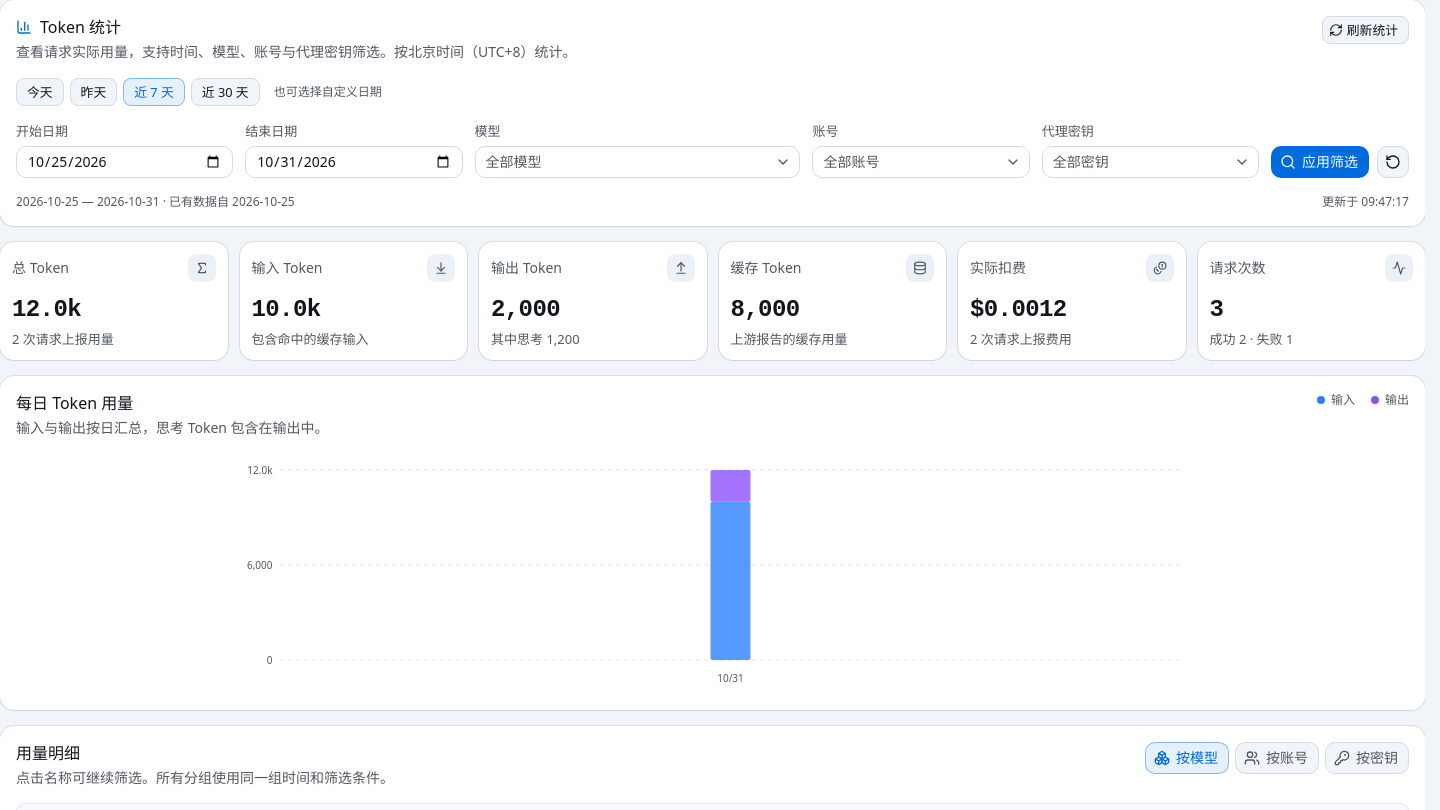
Test case: failed refresh keeps existing numbers and displays the failure
The image size is (1440, 810).
Click the button "刷新统计" at (1365, 30), box x1=1322 y1=16 x2=1409 y2=44
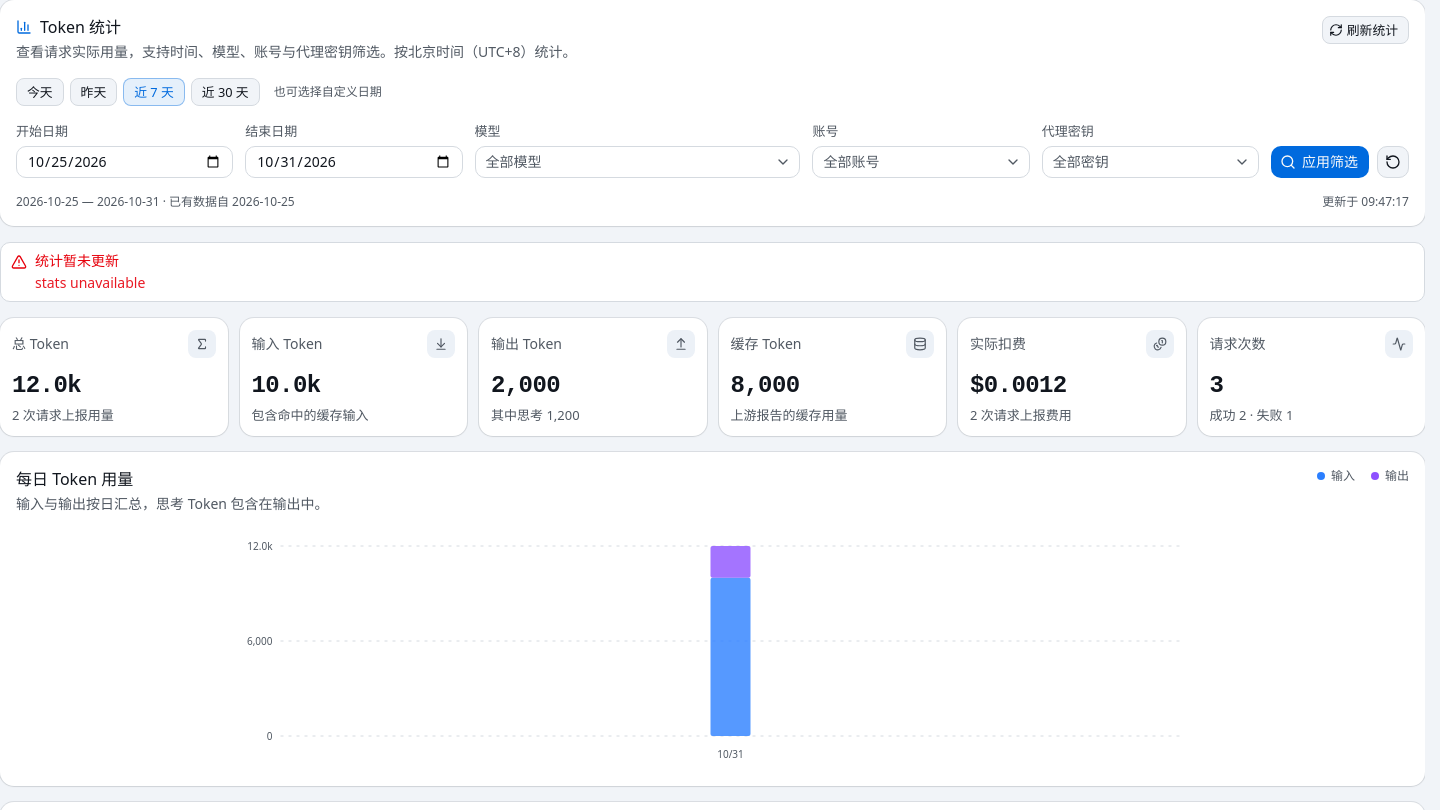
Expected: the text "12.0k" is shown, x1=12 y1=372 x2=81 y2=399
Expected: the text "stats unavailable" is shown, x1=35 y1=273 x2=145 y2=292
